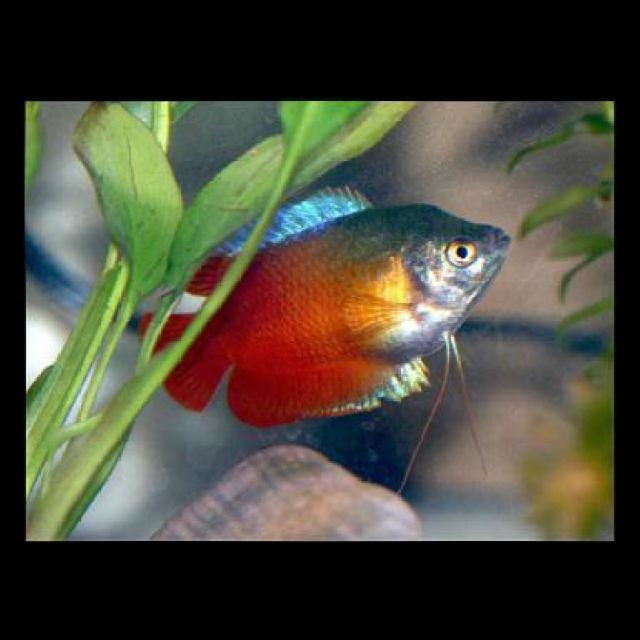Gourami: (140, 183, 525, 423)
